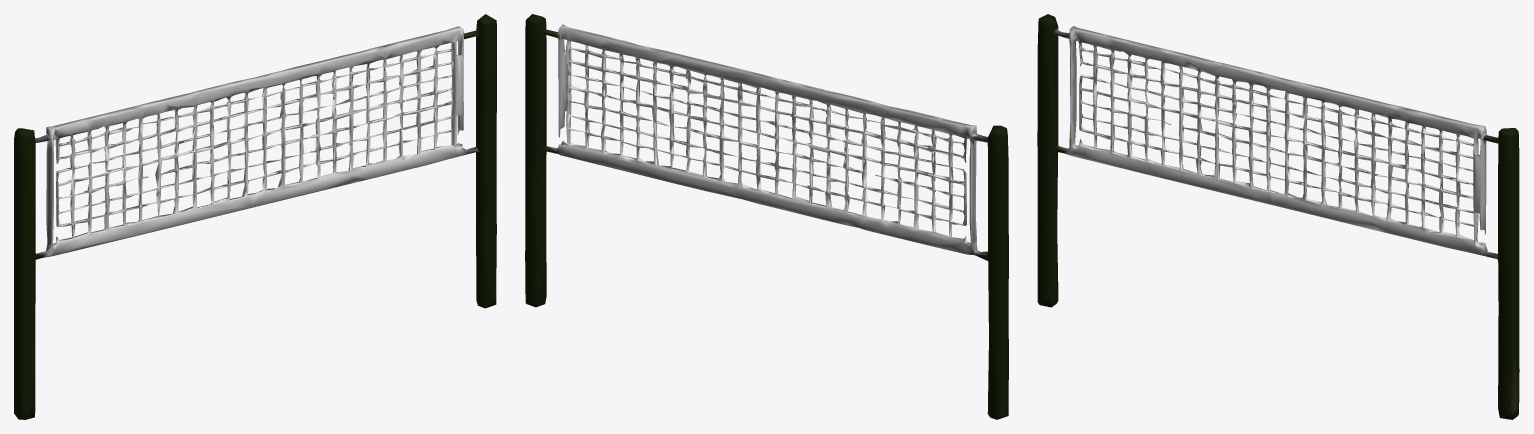
File: gen3d-volleyball-net-lod0.glb
3 views of the same model, side by side, from view 1: azimuth 30°, elevation 25°; view 2: azimuth 150°, elevation 25°; view 3: azimuth 330°, elevation 25° (orthographic).
Visible parts, largest first — view 1: part_0; view 2: part_0; view 3: part_0.
Part boxes in pixels (box(x1,y1,x2,y2)): part_0: box(14, 14, 496, 419); part_0: box(525, 14, 1008, 419); part_0: box(1037, 14, 1519, 419).
Size of the model in its own units: 1.74 by 0.9988 by 0.0611.
